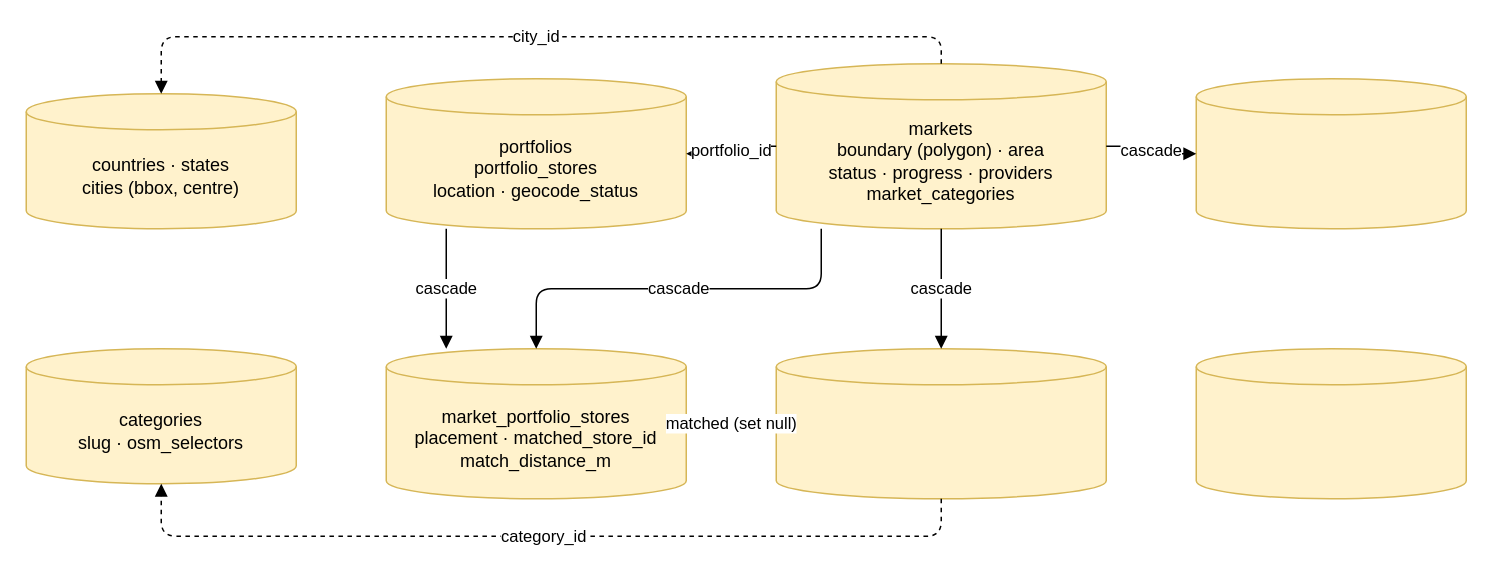
The diagram is 1493 pixels wide and 575 high, and some of its shapes have lost their labels. The centre of each missing label's shape, as x and y in pixels:
"discovered_stores per market · provider id location · category" belongs at point 940,423.
"jobs type · status · attempts run_after · last_error" belongs at point 1330,153.
"place_tiles provider · cell · categories answer · fetched_at" belongs at point 1330,423.
